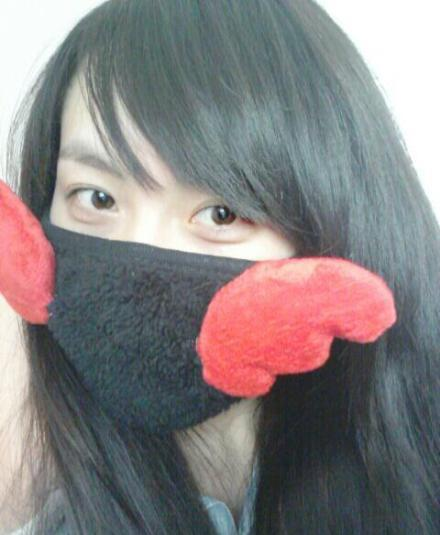OK: (33, 121, 348, 436)
